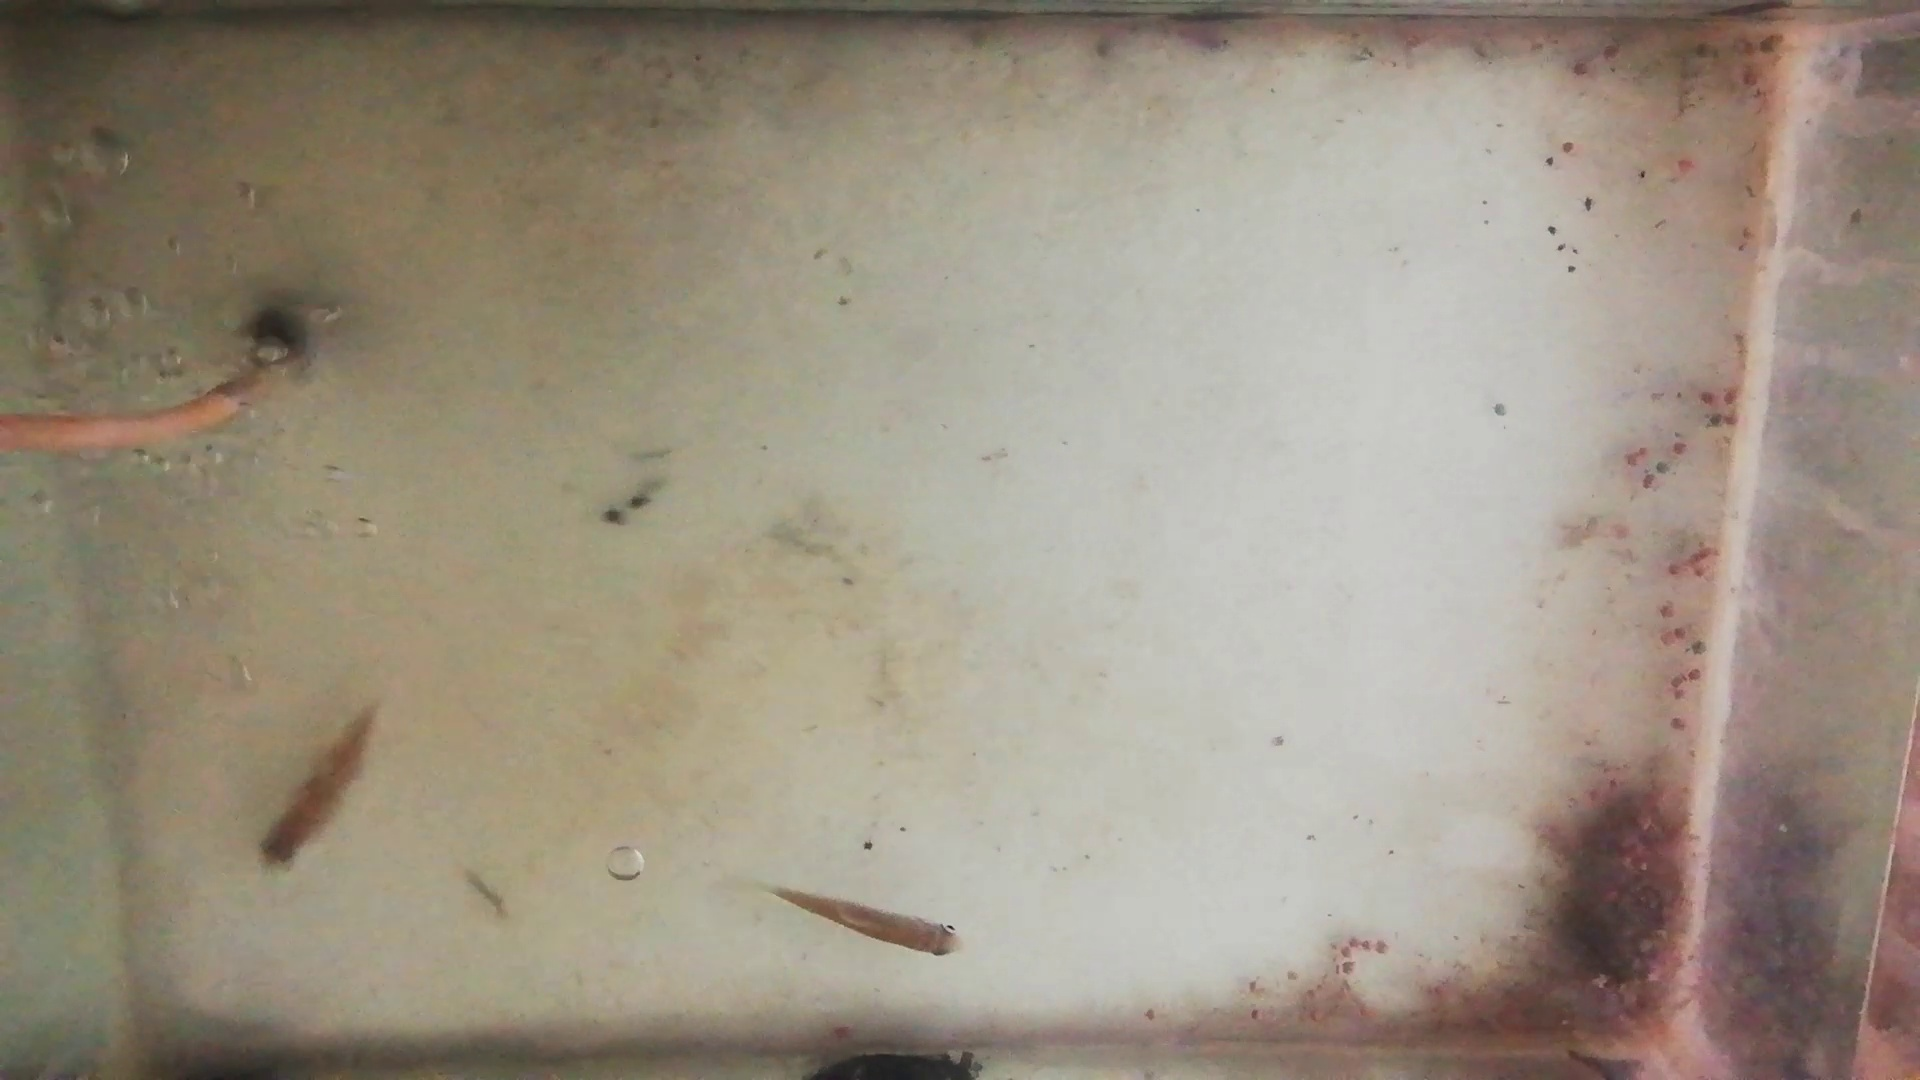fish: (260, 700, 381, 877), (764, 887, 968, 957)
